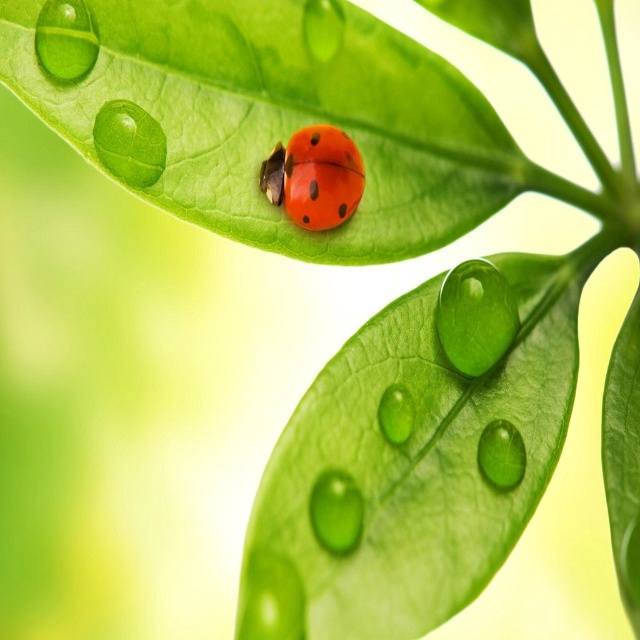Ladybug: (259, 125, 365, 232)
